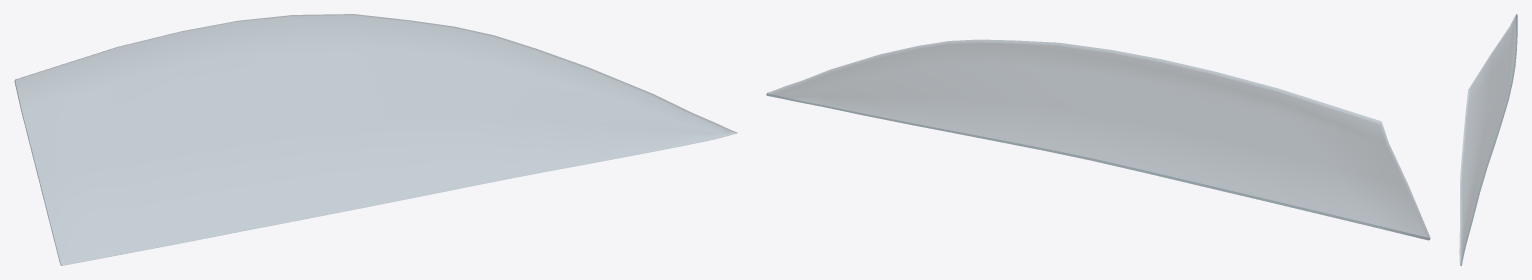
The picture shows the model from 3 angles, left to right: view 1: azimuth 30°, elevation 25°; view 2: azimuth 150°, elevation 25°; view 3: azimuth 270°, elevation 25°; orthographic projection. The views are drawn at different scales.
Parts seen in each view (by area): view 1: SM_MercedesCCC_Door_FR_Glass_Int1; view 2: SM_MercedesCCC_Door_FR_Glass_Int1; view 3: SM_MercedesCCC_Door_FR_Glass_Int1.
Boxes of the visible parts, x1,y1,x2,y2 form: SM_MercedesCCC_Door_FR_Glass_Int1: (14, 14, 736, 265); SM_MercedesCCC_Door_FR_Glass_Int1: (766, 40, 1430, 240); SM_MercedesCCC_Door_FR_Glass_Int1: (1459, 14, 1517, 265).
Size of the model in its own units: 1.18 by 0.3106 by 0.1761.
